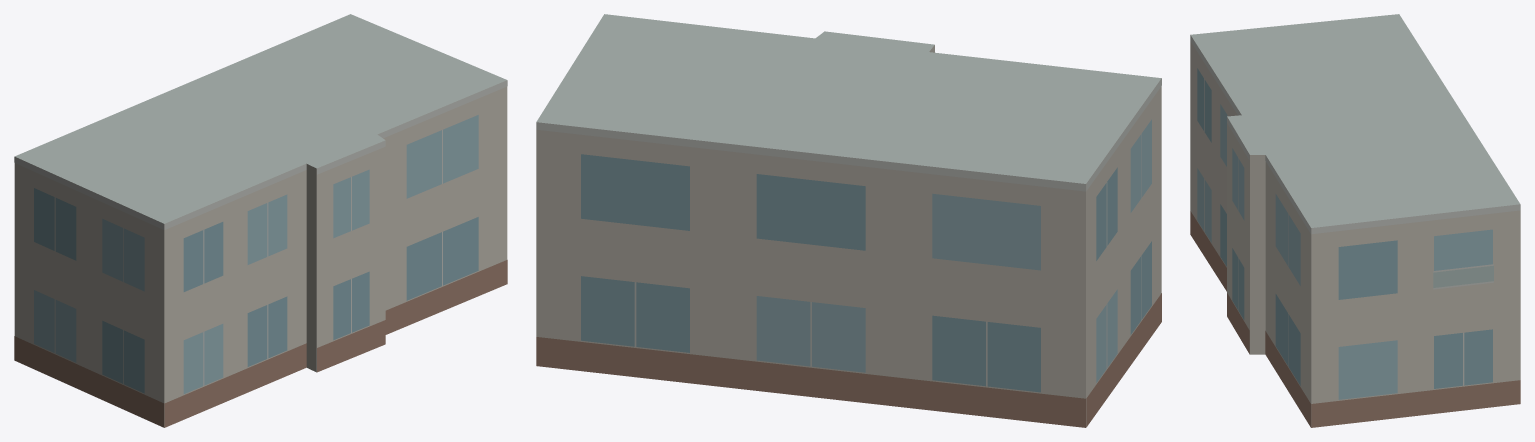
The model's file is survey-upis-32616234.glb.
3 views of the same model, side by side, from view 1: azimuth 30°, elevation 25°; view 2: azimuth 150°, elevation 25°; view 3: azimuth 270°, elevation 25° (orthographic). The views are drawn at different scales.
Visible parts, largest first — view 1: survey-upis-32616234.tmp; view 2: survey-upis-32616234.tmp; view 3: survey-upis-32616234.tmp.
Boxes of the visible parts, x1,y1,x2,y2 form: survey-upis-32616234.tmp: [14, 14, 507, 427]; survey-upis-32616234.tmp: [536, 14, 1161, 427]; survey-upis-32616234.tmp: [1190, 14, 1520, 427].
Bounding box in the file's own units: 18.17 × 7.9 × 11.84.
